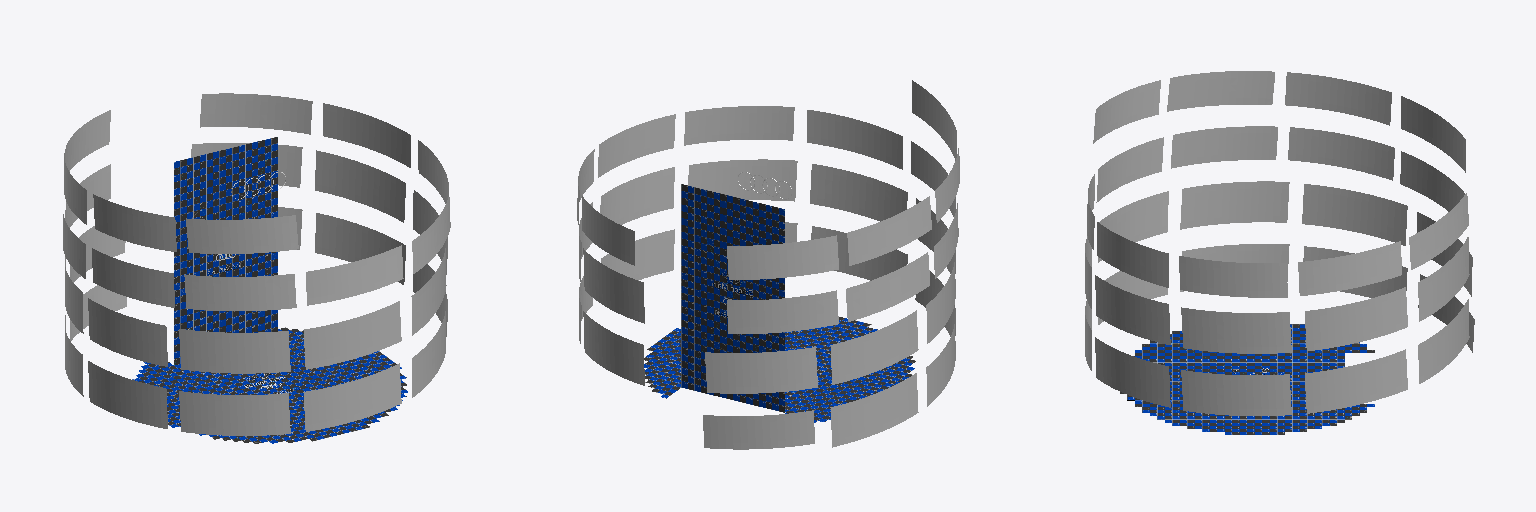
The picture shows the model from 3 angles: view 1: azimuth 30°, elevation 25°; view 2: azimuth 150°, elevation 25°; view 3: azimuth 270°, elevation 25°; orthographic projection.
Parts seen in each view (by area): view 1: Ring_LED_Screen_L, Ring_LED_Screen_R, Main_LED_Screen, Floor_LED_Screen; view 2: Ring_LED_Screen_L, Ring_LED_Screen_R, Main_LED_Screen, Floor_LED_Screen; view 3: Ring_LED_Screen_L, Ring_LED_Screen_R, Floor_LED_Screen.
Part boxes in pixels (x1,y1,x2,y2): Ring_LED_Screen_L: (63, 110, 403, 435); Ring_LED_Screen_R: (191, 93, 450, 397); Main_LED_Screen: (174, 137, 277, 364); Floor_LED_Screen: (132, 327, 407, 443); Ring_LED_Screen_L: (703, 80, 959, 449); Ring_LED_Screen_R: (577, 106, 797, 385); Main_LED_Screen: (681, 184, 784, 412); Floor_LED_Screen: (644, 317, 915, 422); Ring_LED_Screen_L: (1085, 71, 1474, 370); Ring_LED_Screen_R: (1095, 193, 1469, 415); Floor_LED_Screen: (1120, 324, 1374, 434).
Bounding box in the file's own units: 25.67 × 17.85 × 26.
5 materials, 2 textured.